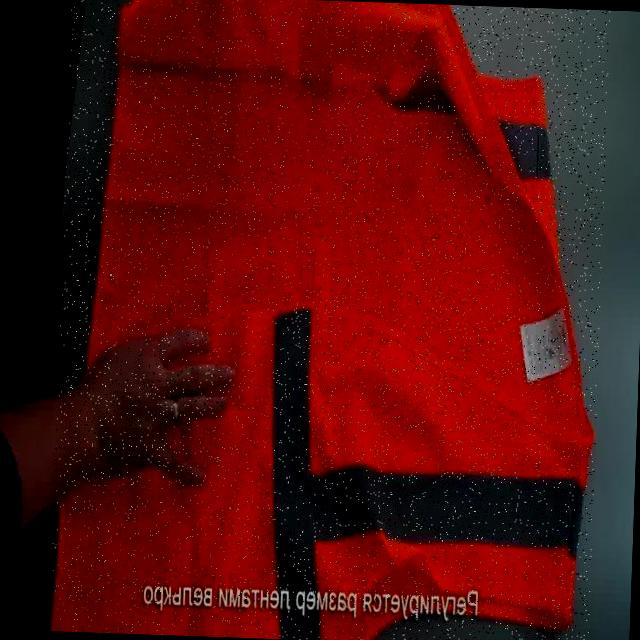vest: (49, 0, 610, 640)
